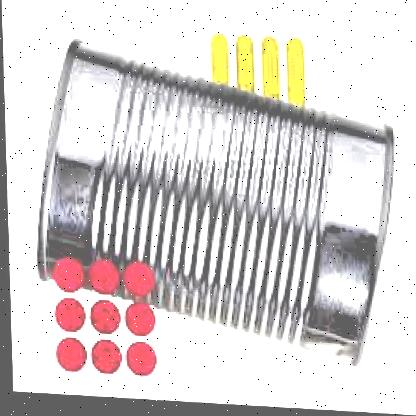Can: (35, 38, 393, 364)
